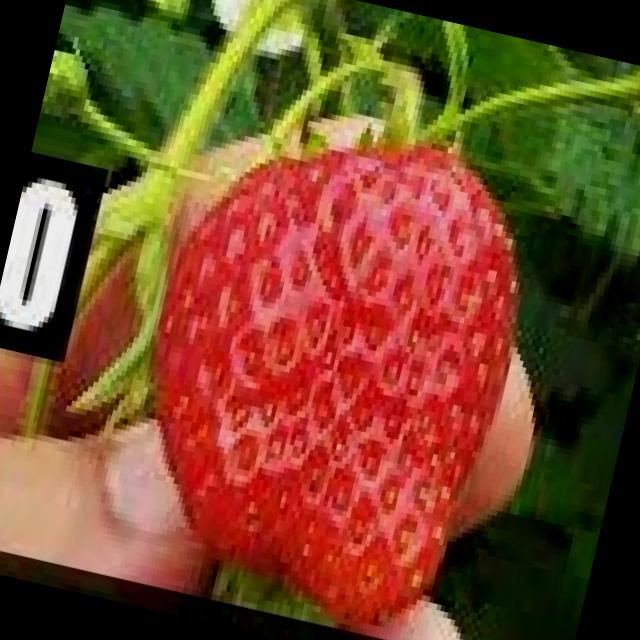strawberry: (96, 87, 565, 640)
